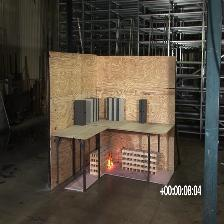fire: (103, 152, 114, 172)
